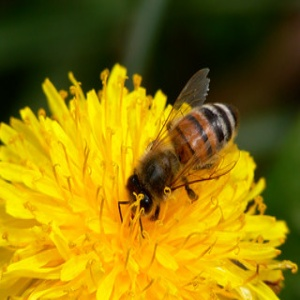bee: (118, 69, 248, 238)
